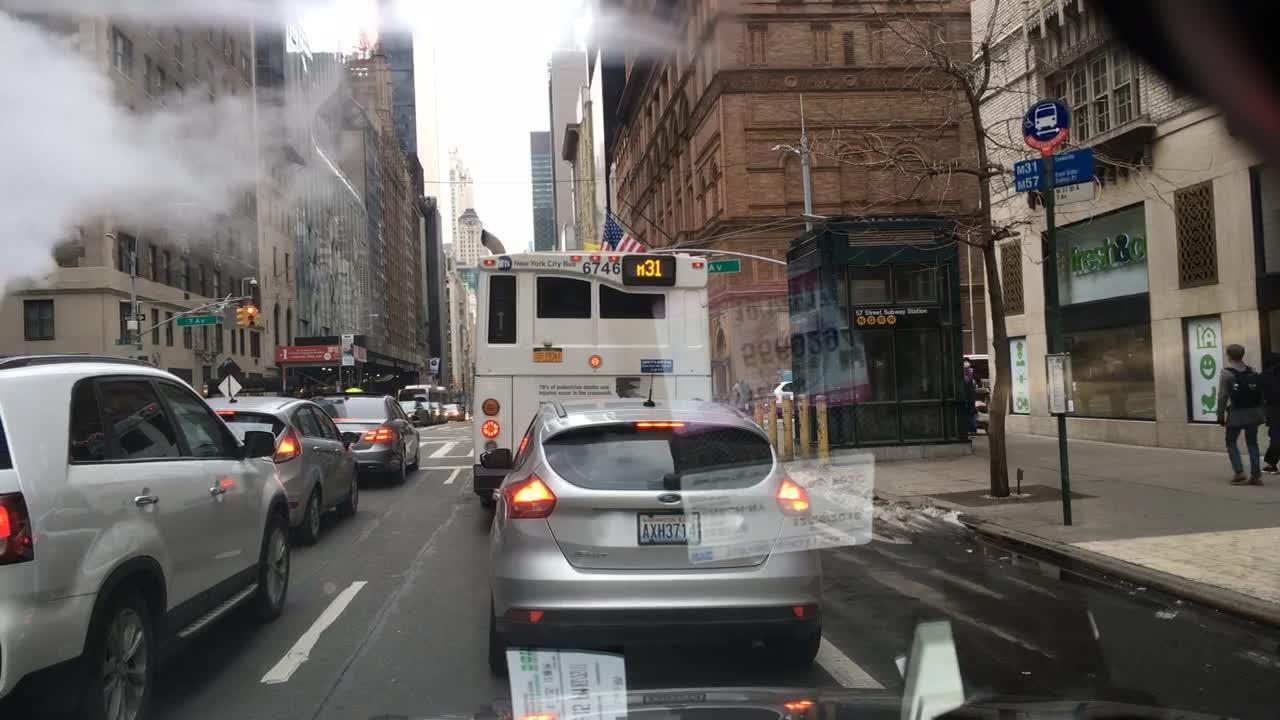ford: (656, 489, 685, 510)
